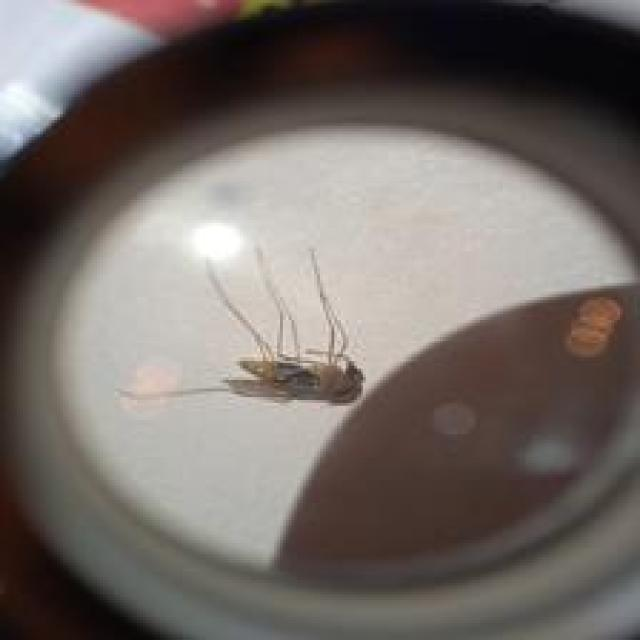Culex: (116, 241, 367, 410)
